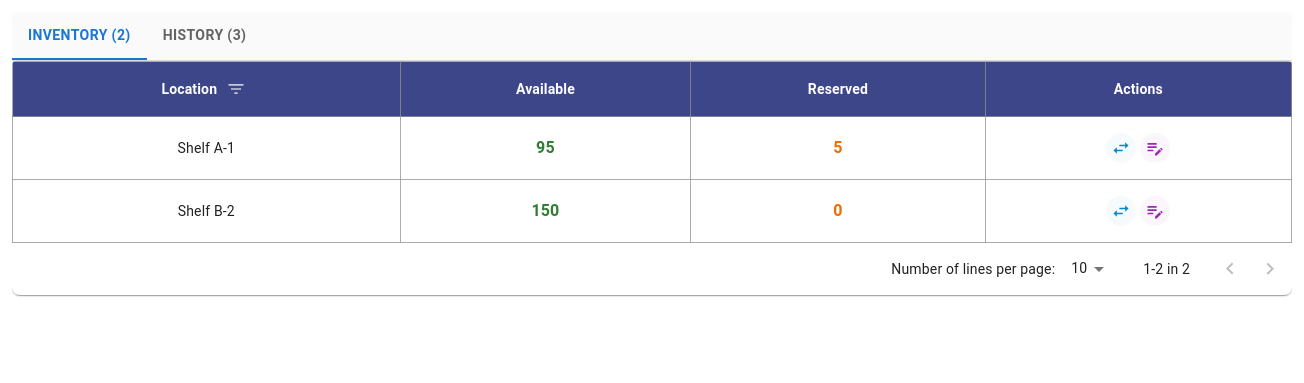
Test: BatchTabsSection - Comprehensive Tests › Tab Switching › switches back to inventory from history
# Switch to history
Step 1. Click the tab "History (3)" → click(205, 36), box [147,12,262,60]
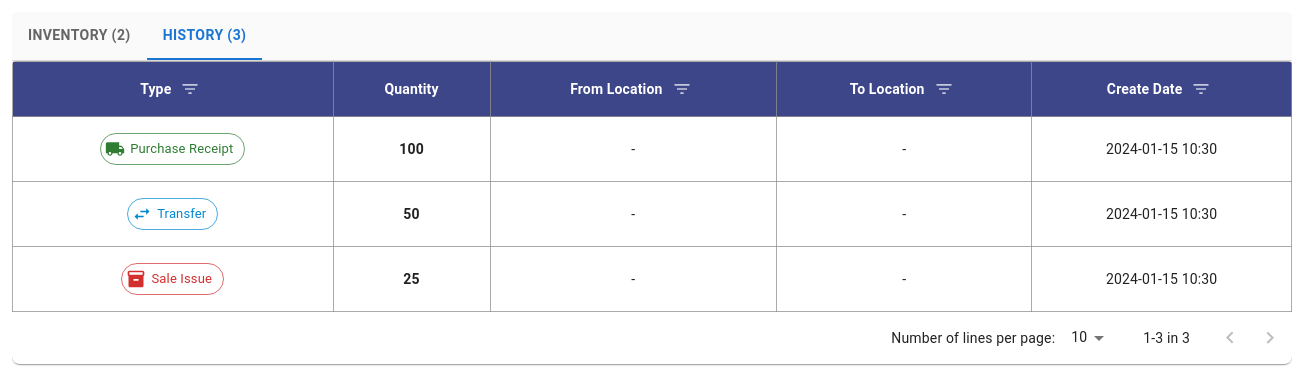
Expected: the text "Type" is shown, [140,77,171,101]
# Switch back to inventory
Step 2. Click the tab "Inventory (2)" → click(79, 36), box [12,12,147,60]
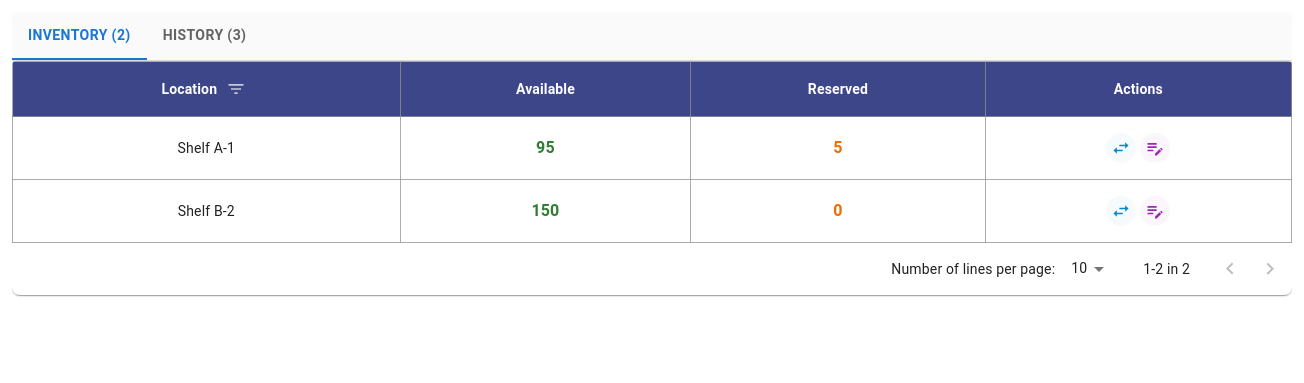
Expected: the text "Location" is shown, [162,77,217,101]
Expected: the text "Type" is gone
